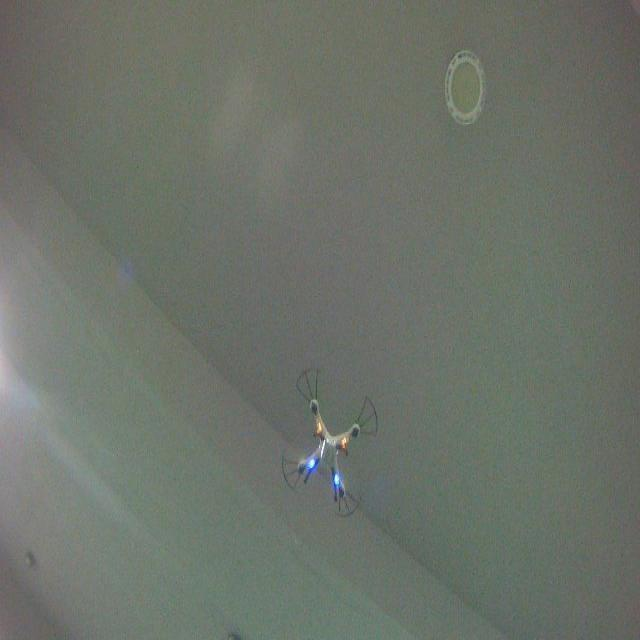drone: (279, 364, 380, 520)
